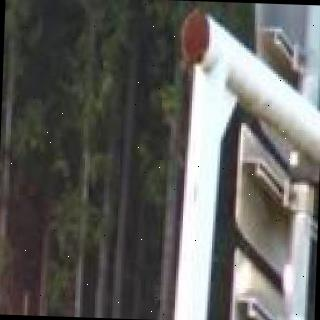fire: (0, 207, 11, 314)
